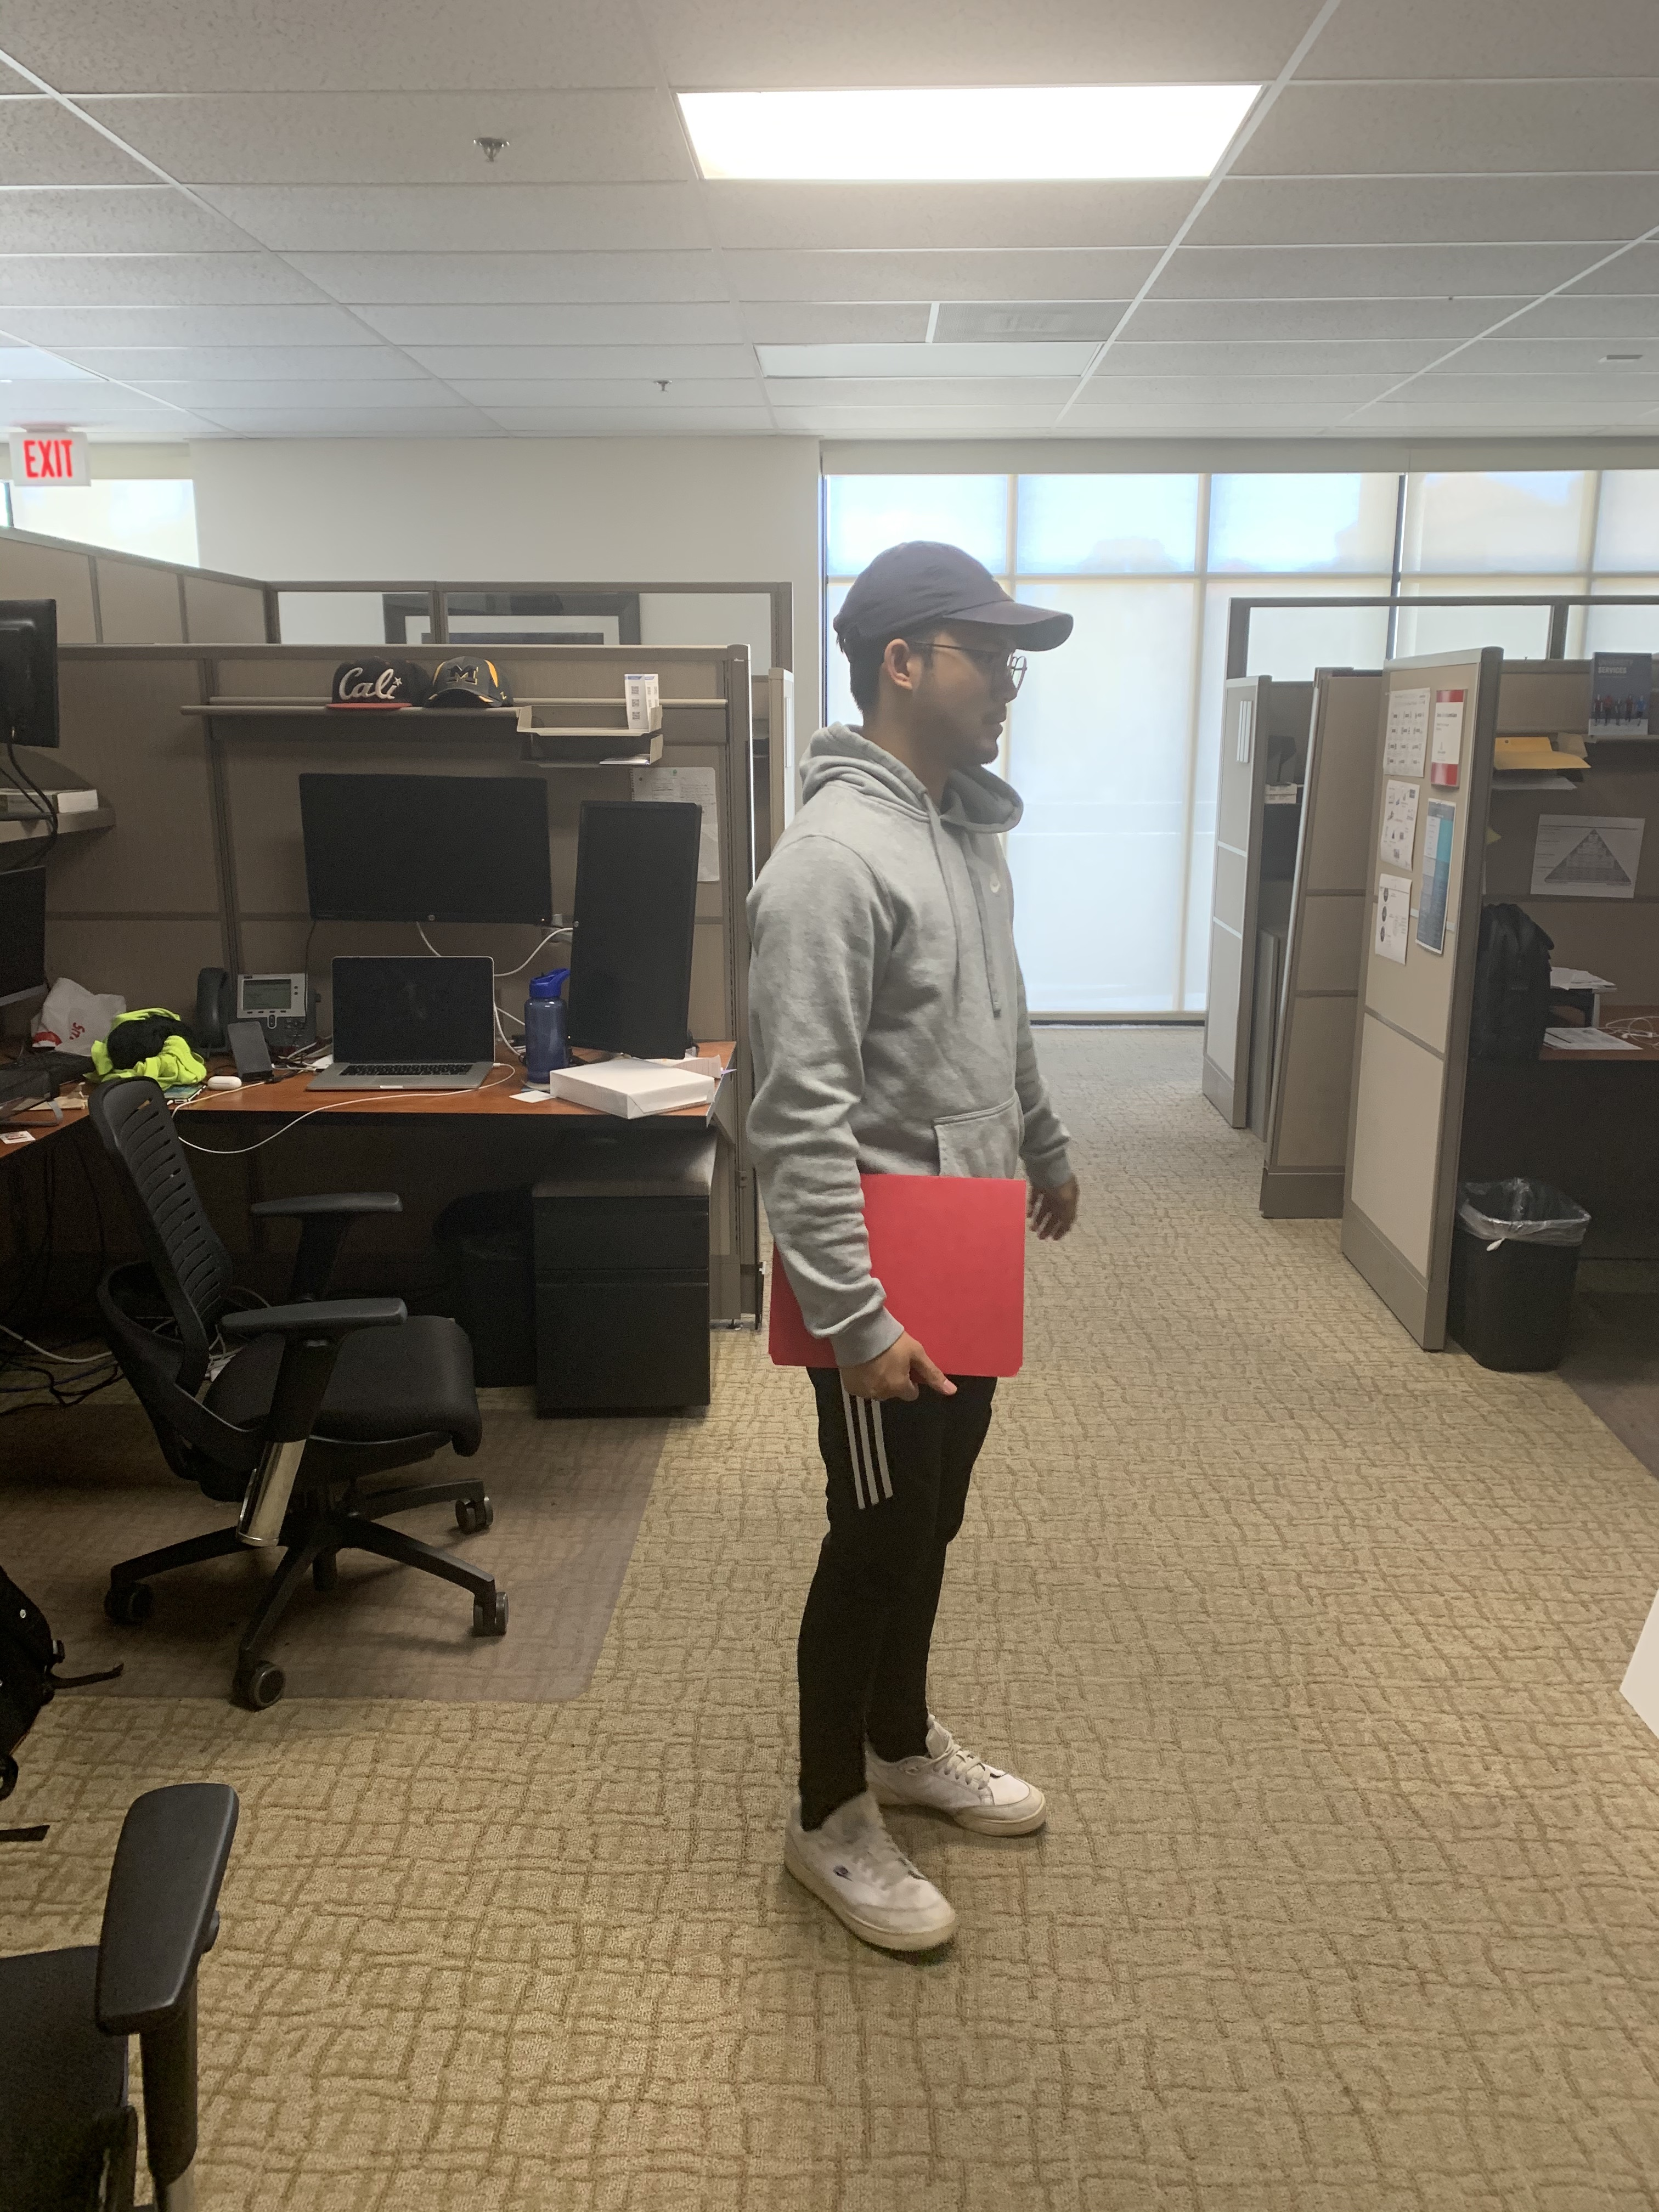red folder: (755, 1151, 1042, 1397)
